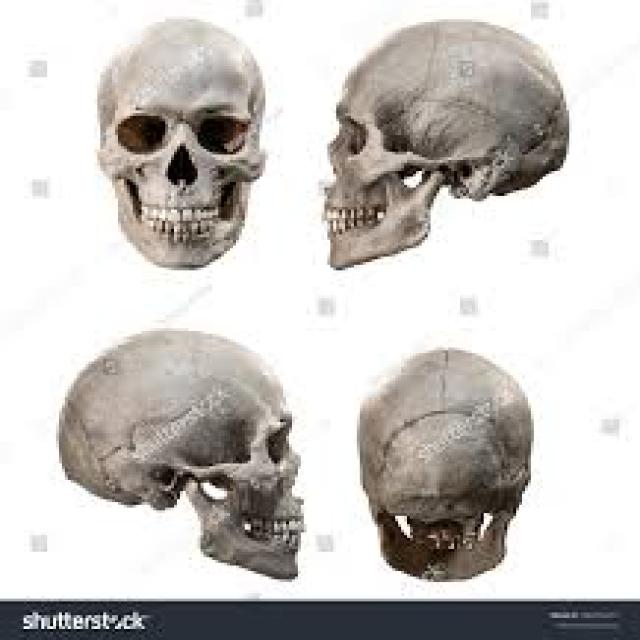skull: (95, 7, 278, 282)
